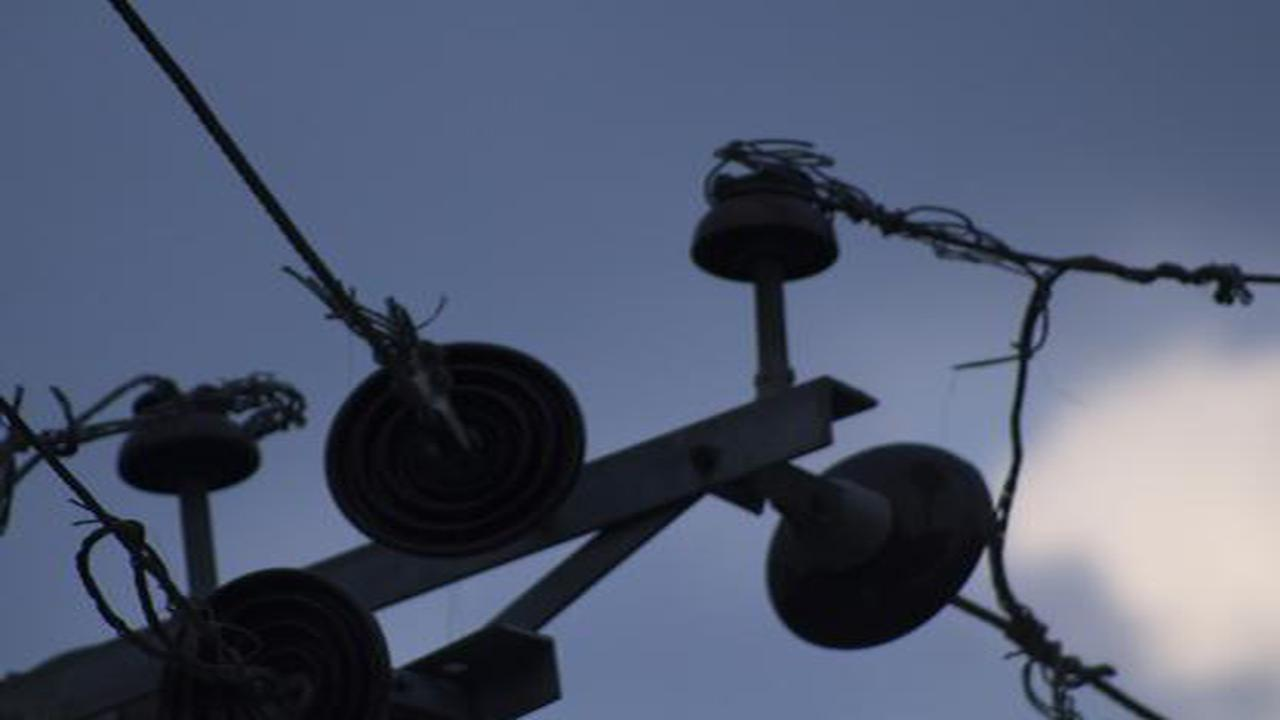insulator_disc: (322, 335, 595, 565), (746, 417, 1000, 659)
insulator_pin: (687, 159, 845, 287), (111, 373, 268, 496)
